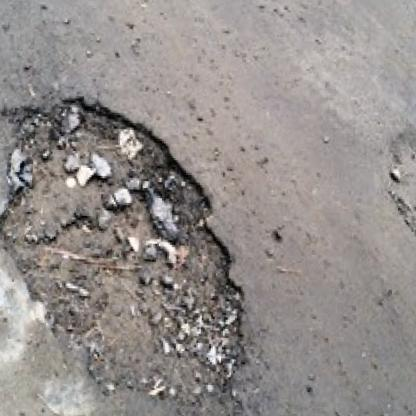pothole: (0, 88, 261, 412), (378, 124, 416, 303)
